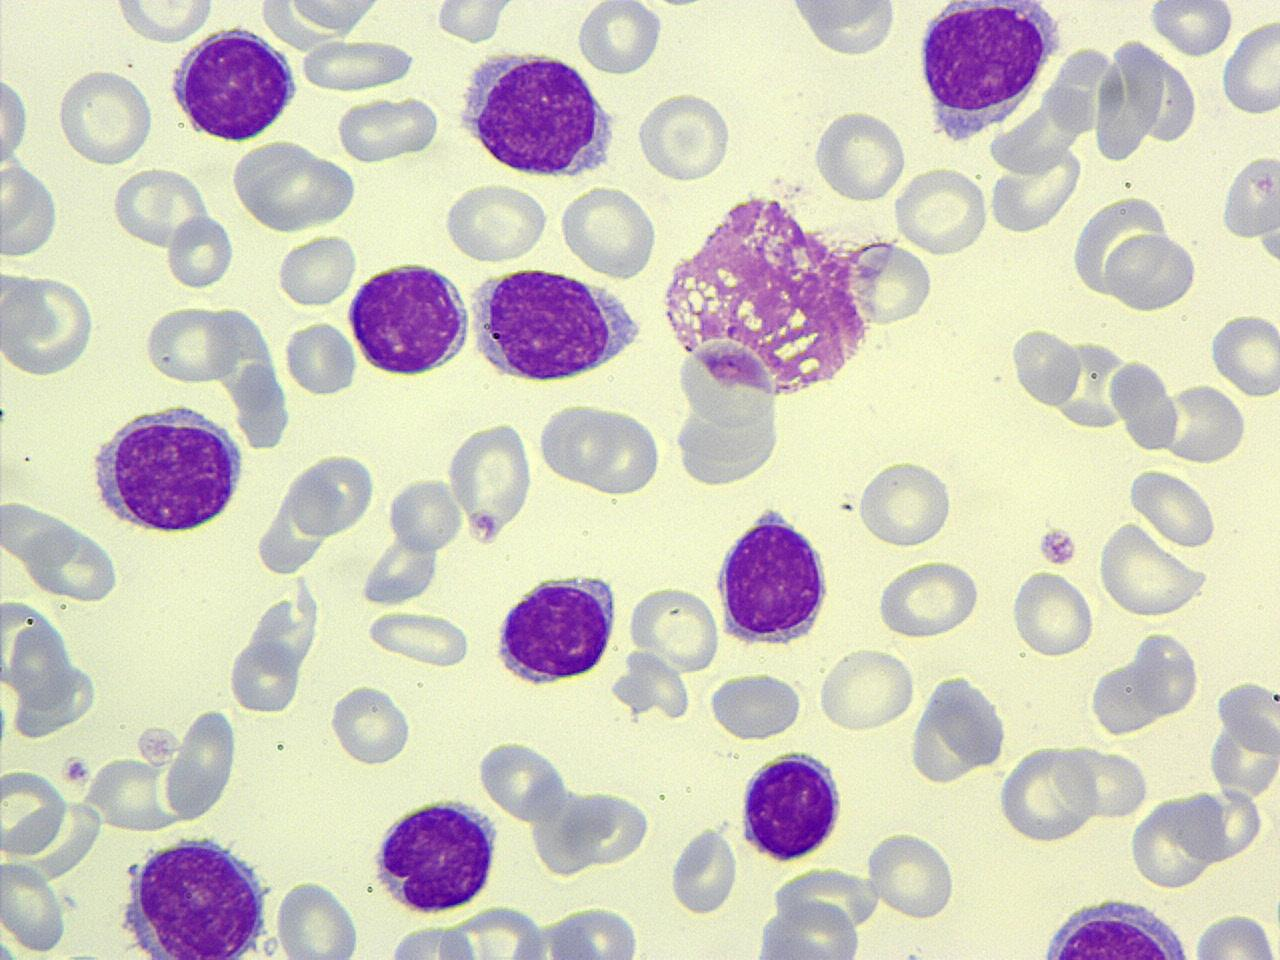Platelets: (61, 753, 92, 784)
RBC: (906, 670, 1006, 790), (1095, 518, 1211, 618), (445, 416, 536, 540), (994, 740, 1099, 844), (56, 64, 156, 166), (558, 181, 660, 280), (0, 273, 96, 377), (1090, 37, 1168, 162), (812, 105, 908, 205), (816, 642, 918, 736), (634, 90, 734, 184), (892, 164, 992, 257), (875, 554, 983, 640), (862, 826, 958, 922), (984, 141, 1083, 234), (856, 456, 954, 549), (441, 180, 549, 263), (109, 165, 214, 250), (1128, 792, 1218, 891), (163, 703, 239, 820), (627, 583, 722, 674), (1008, 564, 1096, 660), (288, 448, 377, 540), (1104, 229, 1200, 314), (1052, 740, 1150, 822), (23, 522, 123, 602), (576, 405, 661, 499), (141, 302, 237, 385), (844, 239, 934, 326), (328, 679, 413, 769), (272, 876, 364, 959), (1160, 380, 1248, 466), (538, 398, 622, 488), (334, 93, 440, 164), (1126, 467, 1218, 548), (1110, 354, 1182, 453), (706, 671, 804, 743), (0, 854, 69, 954), (748, 900, 862, 960), (299, 36, 415, 94), (364, 607, 472, 669), (574, 1, 664, 75), (1208, 309, 1280, 401), (668, 822, 738, 916), (273, 231, 358, 308), (384, 472, 463, 554), (1010, 324, 1085, 410), (0, 766, 69, 858), (358, 532, 441, 608), (1220, 14, 1280, 118), (1132, 629, 1200, 720), (226, 635, 302, 715), (283, 317, 358, 398), (1087, 658, 1161, 738), (0, 162, 60, 259), (1220, 149, 1280, 246), (164, 212, 236, 291), (1215, 675, 1280, 761), (1148, 0, 1232, 58), (112, 0, 216, 46), (1189, 909, 1277, 959), (783, 0, 897, 38), (284, 0, 385, 36), (432, 0, 512, 44), (385, 923, 480, 960), (0, 62, 30, 174)
WBC: (654, 180, 900, 405), (454, 44, 622, 181), (86, 397, 250, 536), (463, 264, 645, 388), (912, 0, 1064, 146), (118, 830, 276, 960), (712, 502, 836, 652), (371, 792, 504, 916), (344, 256, 473, 381), (168, 23, 302, 142), (494, 570, 624, 690), (734, 746, 848, 864), (1022, 894, 1199, 960), (910, 669, 1010, 779)
